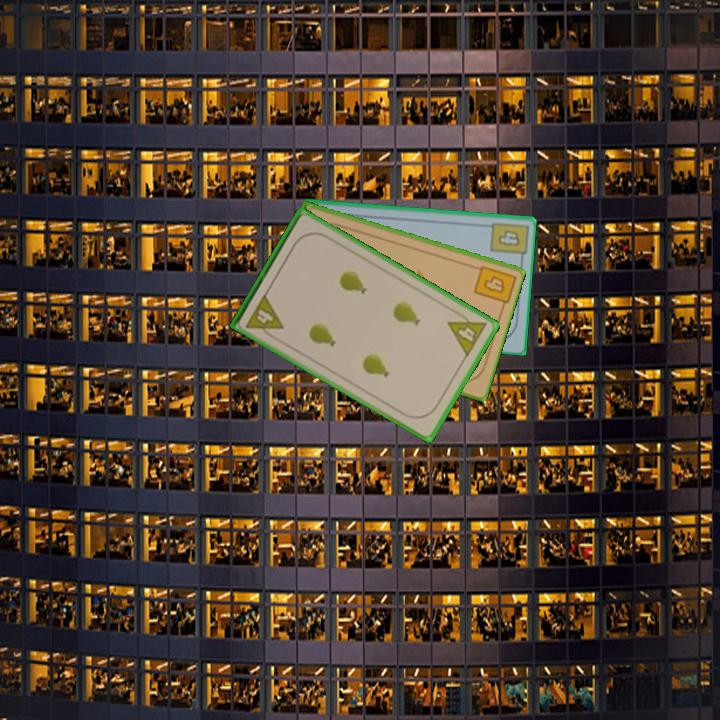4b: (480, 272, 508, 296), (495, 226, 523, 249)
4p: (444, 306, 490, 360), (242, 290, 286, 342)
